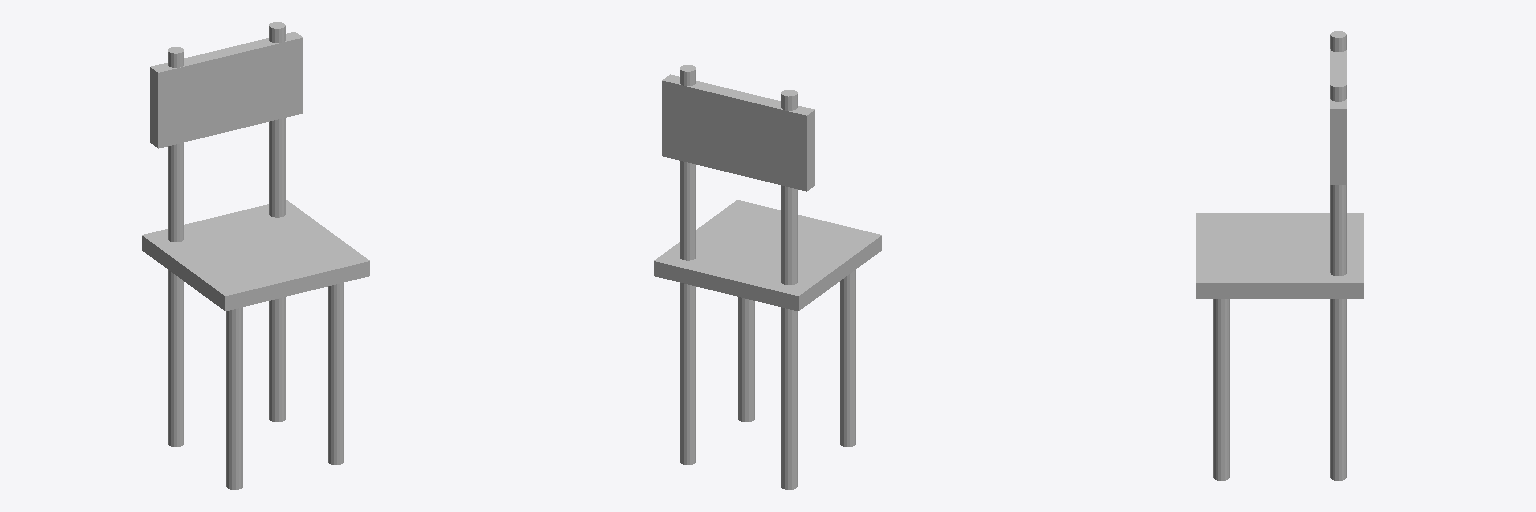
File: chair.obj
3 renders of one model, left to right at view 1: azimuth 30°, elevation 25°; view 2: azimuth 150°, elevation 25°; view 3: azimuth 270°, elevation 25°, orthographic.
Parts seen in each view (by area): view 1: Chair_Cube; view 2: Chair_Cube; view 3: Chair_Cube.
Boxes of the visible parts, <box> form: Chair_Cube: <box>142,22,369,489</box>; Chair_Cube: <box>654,65,881,489</box>; Chair_Cube: <box>1196,31,1363,480</box>.
Size of the model in its own units: 1 by 2.6 by 1.